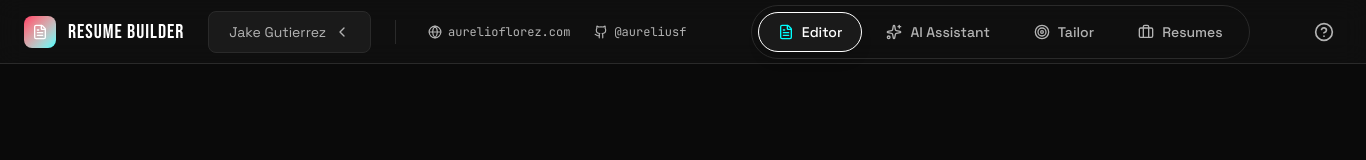
Header › shows New Resume button in dropdown
The image size is (1366, 160).
Click the button with aria-label "select resume": (290, 32) 208,10 -> 371,52
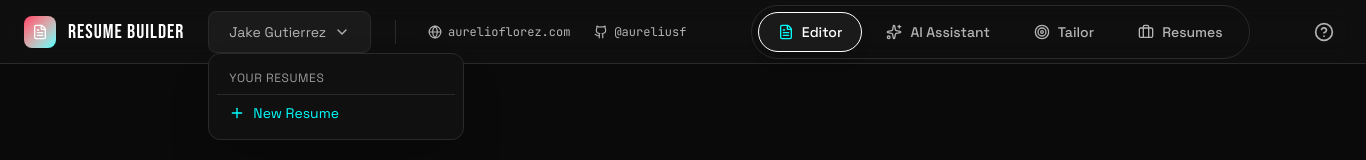
Now the button "New Resume" is shown, box 217,94 -> 455,130
